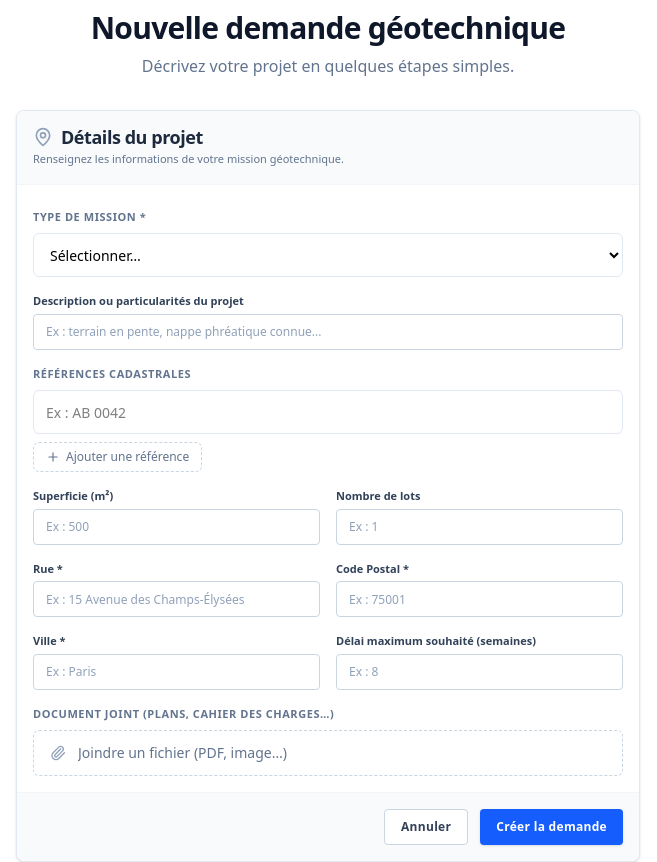
NewRequest — références cadastrales dynamiques › ajoute un nouvel input au clic sur "Ajouter une référence"
Click the button "Ajouter une référence" at (118, 457), box top-left (33, 442), bottom-right (202, 472)
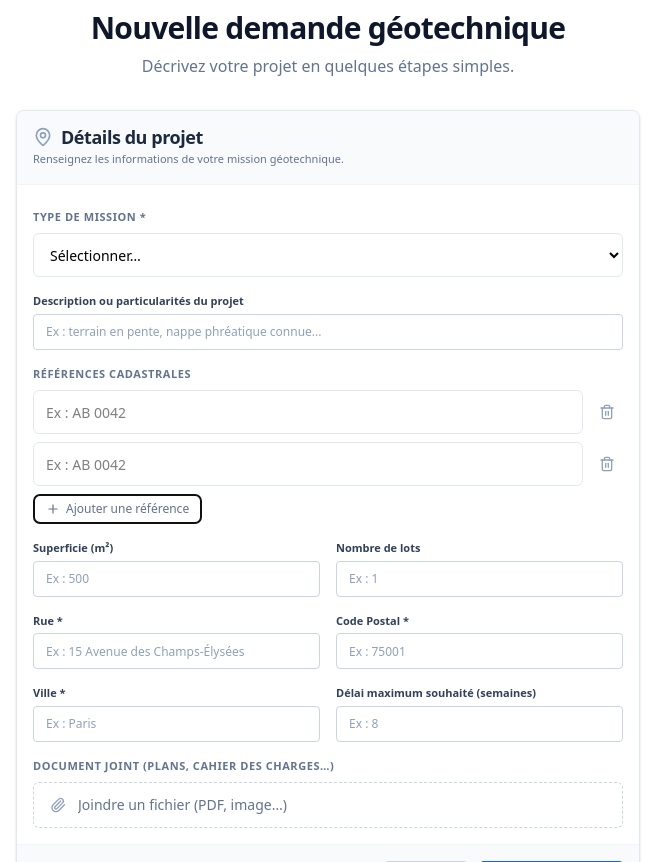
Result: the number of fields with placeholder "Ex : AB 0042" is 2 at top-left (33, 390), bottom-right (583, 434); top-left (33, 442), bottom-right (583, 486)
